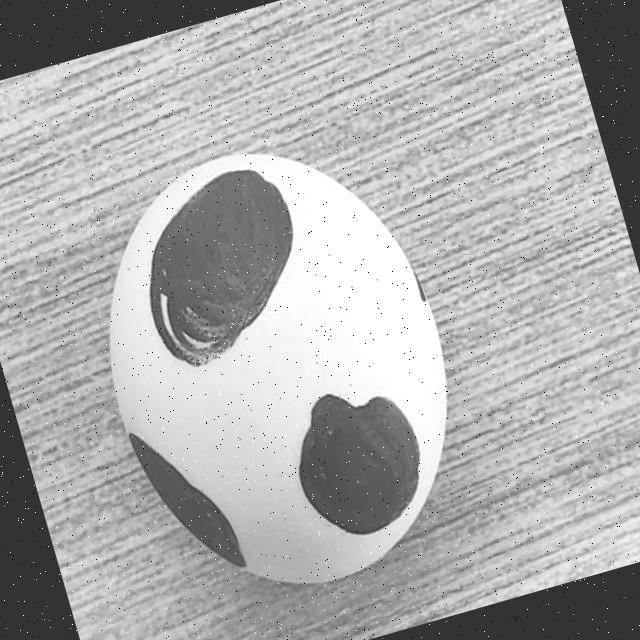ping-pong-ball: (25, 81, 519, 640)
